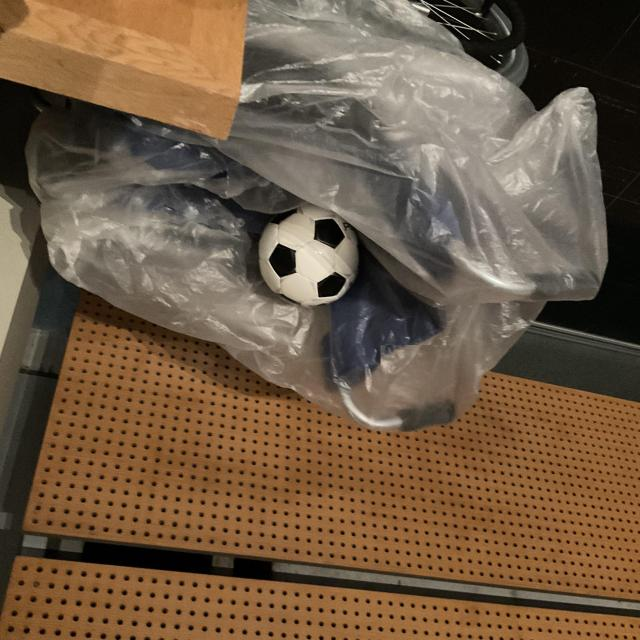ball: (380, 345, 451, 414)
